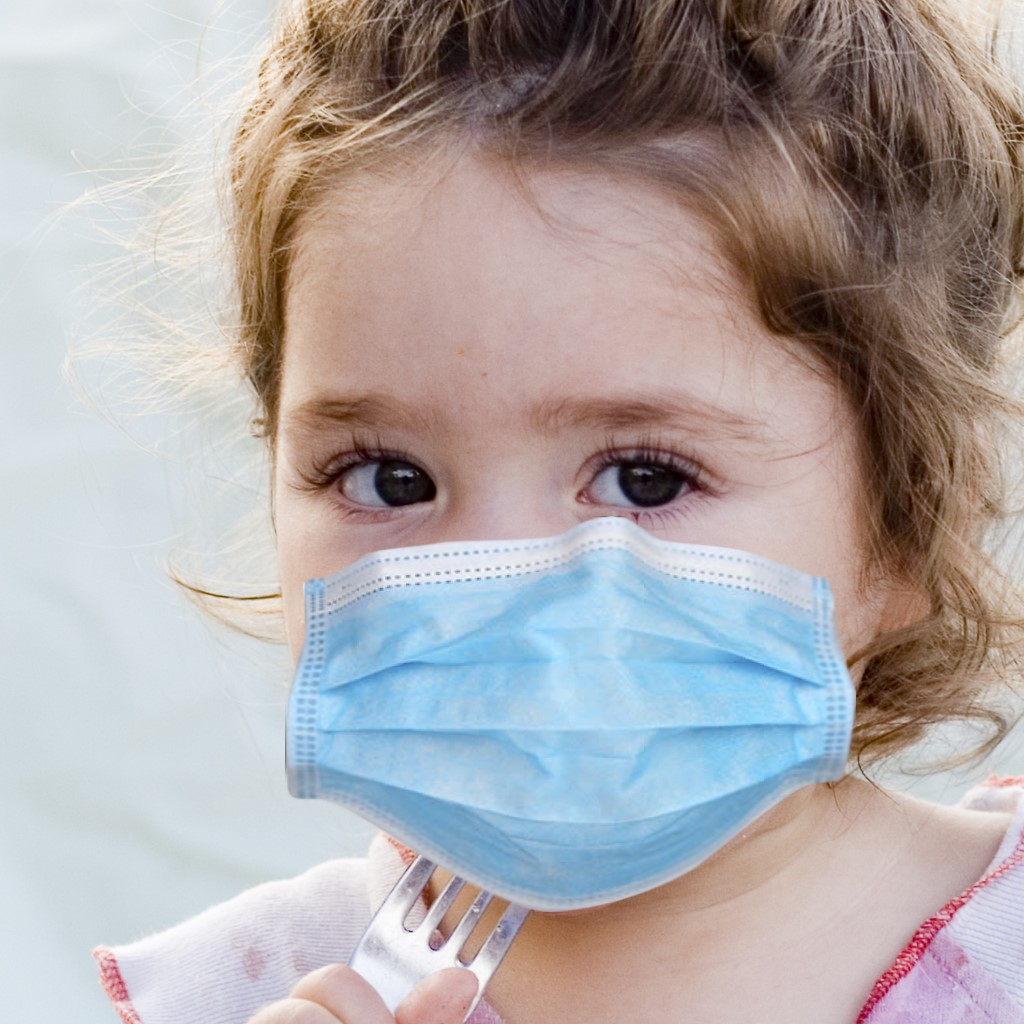con_mascara: (275, 146, 875, 875)
